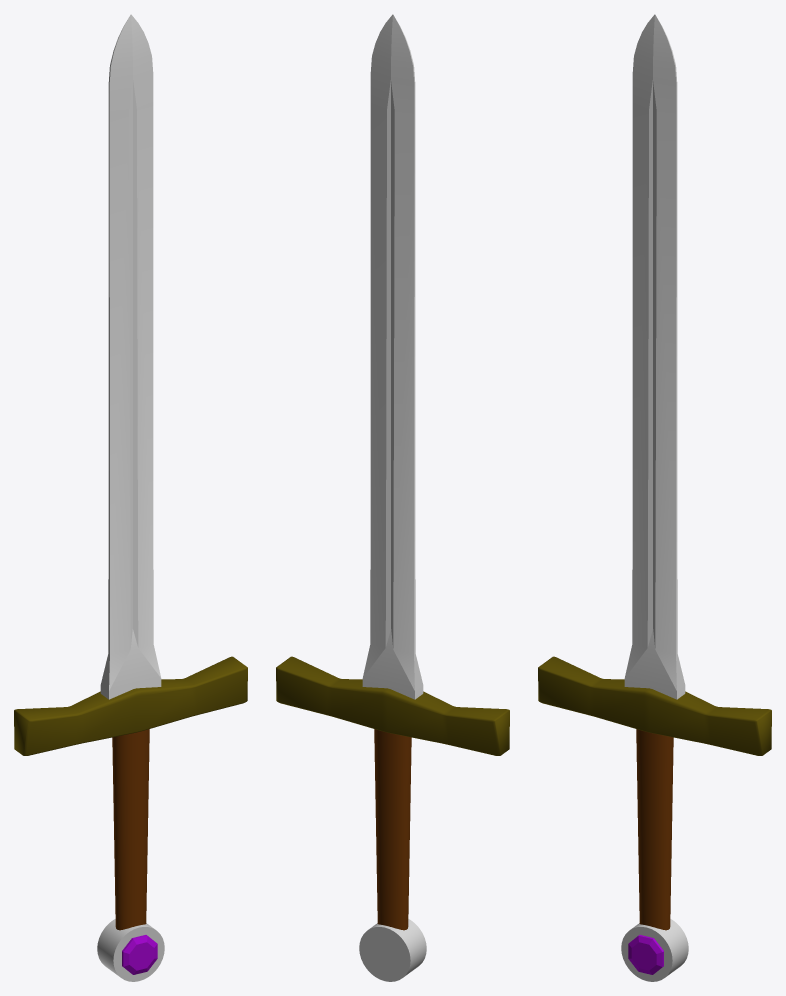
Rendered from Sword.fbx.
The picture shows the model from 3 angles, left to right: view 1: azimuth 30°, elevation 25°; view 2: azimuth 150°, elevation 25°; view 3: azimuth 330°, elevation 25°; orthographic projection.
Visible parts, largest first — view 1: Blade, Hilt, Handle, Knob; view 2: Blade, Hilt, Handle, Knob; view 3: Blade, Hilt, Handle, Knob.
Boxes of the visible parts, x1,y1,x2,y2 form: Blade: (100,14,161,699); Hilt: (14,656,247,755); Handle: (112,729,149,930); Knob: (97,919,164,981); Blade: (362,14,423,699); Hilt: (276,656,509,755); Handle: (374,729,411,930); Knob: (359,919,426,981); Blade: (624,14,685,699); Hilt: (538,656,771,755); Handle: (636,729,673,930); Knob: (621,919,688,981).
Size of the model in its own units: 31.14 by 127 by 4.6.
